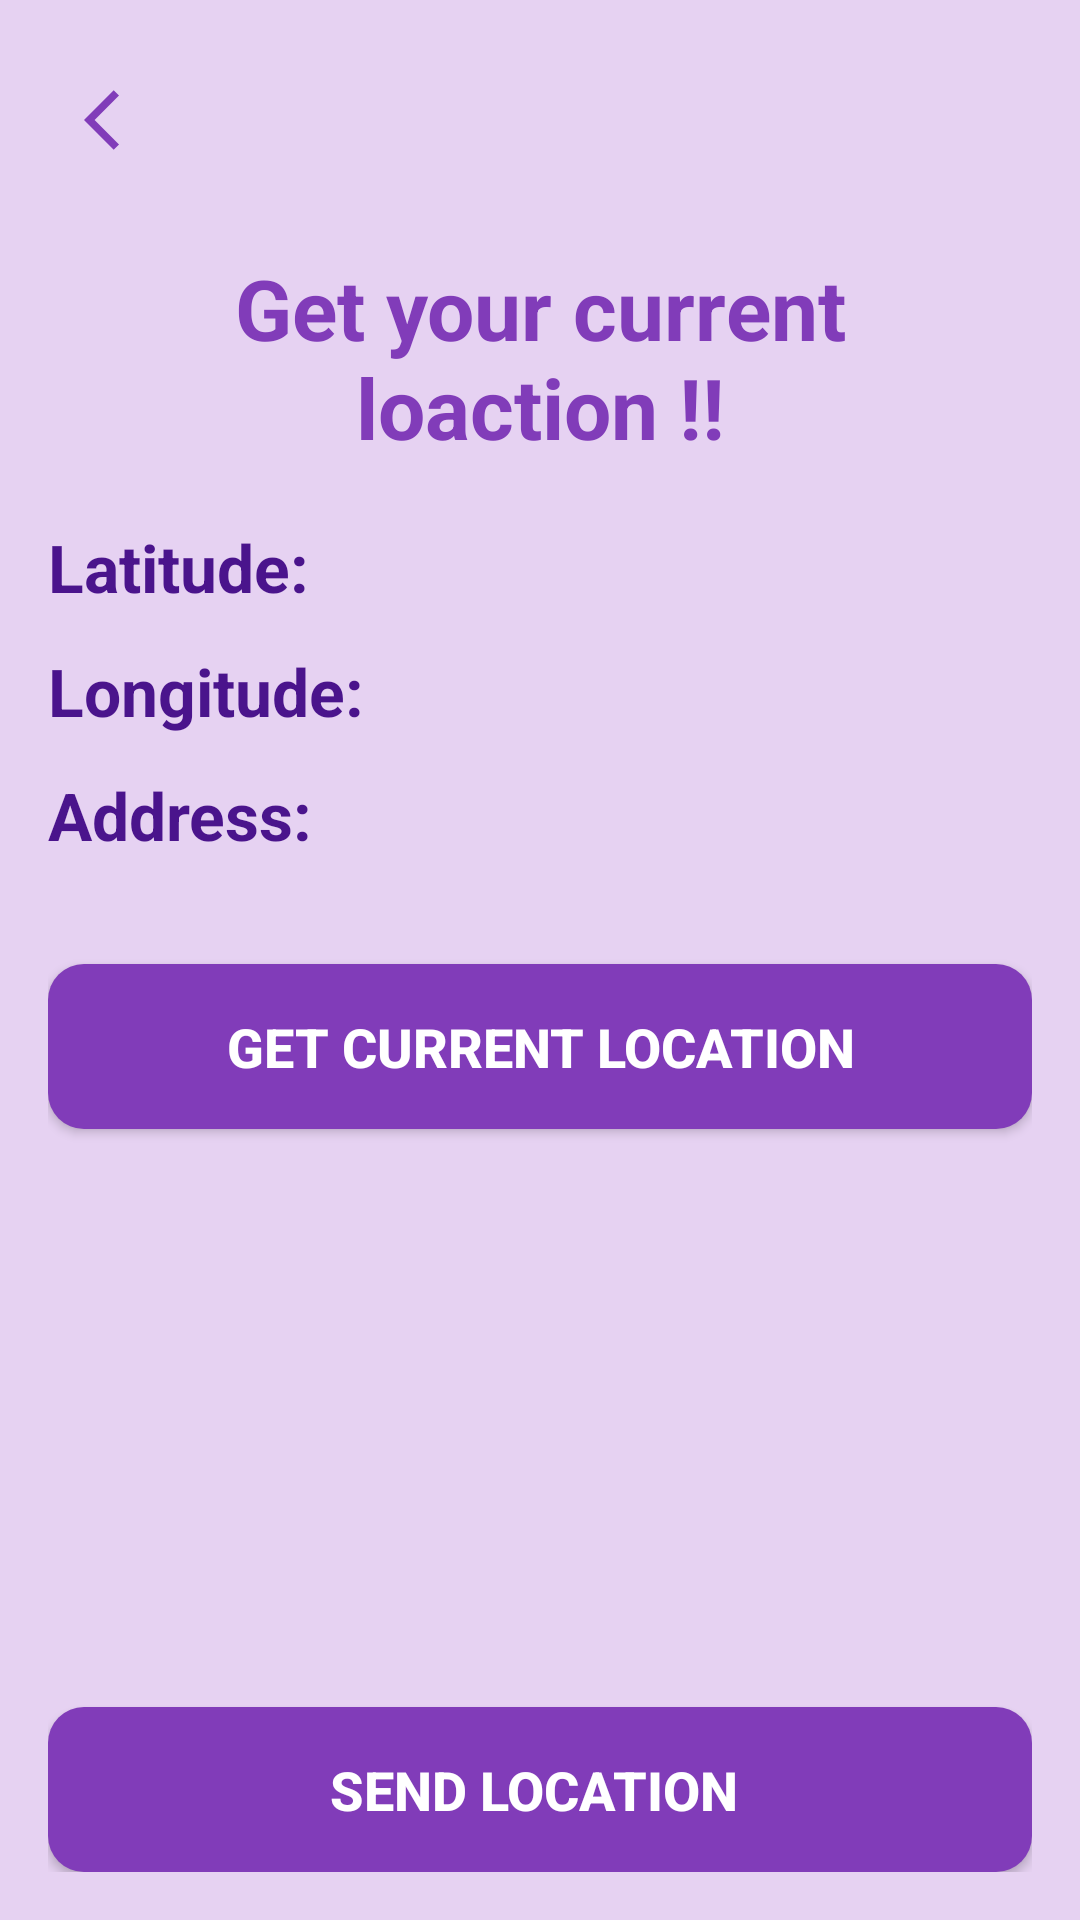

Named icons in this screenshot (1080px x 1920px) and their centers, [x,y]:
back to home page: [101,120]
